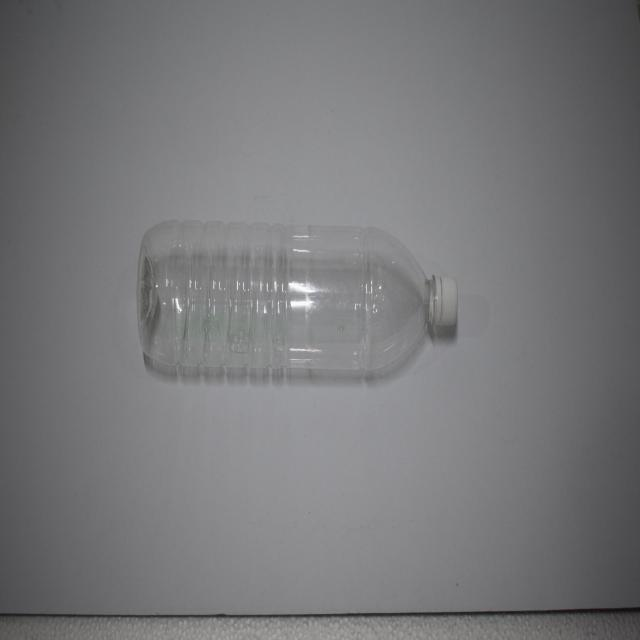bottle: (126, 205, 472, 407)
